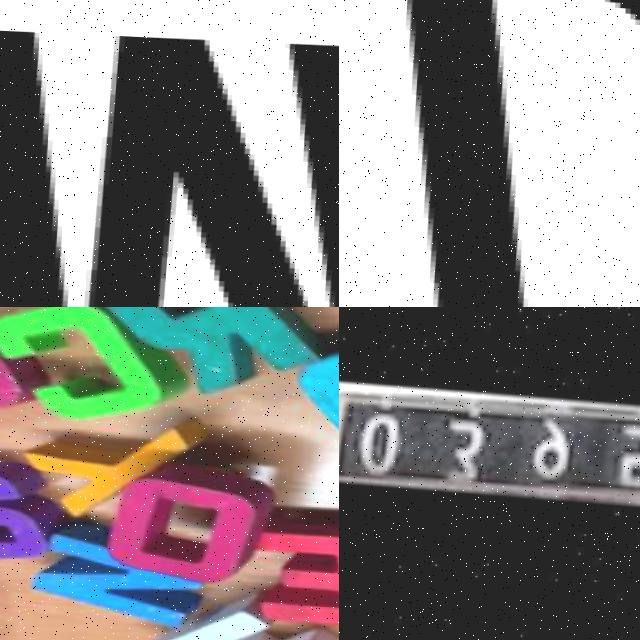0: (354, 409, 401, 482)
3: (440, 420, 485, 486)
5: (614, 425, 640, 493)
9: (527, 418, 570, 486)
D: (349, 0, 640, 307)
H: (133, 599, 339, 640)
M: (0, 18, 339, 307)
O: (110, 465, 289, 592)
